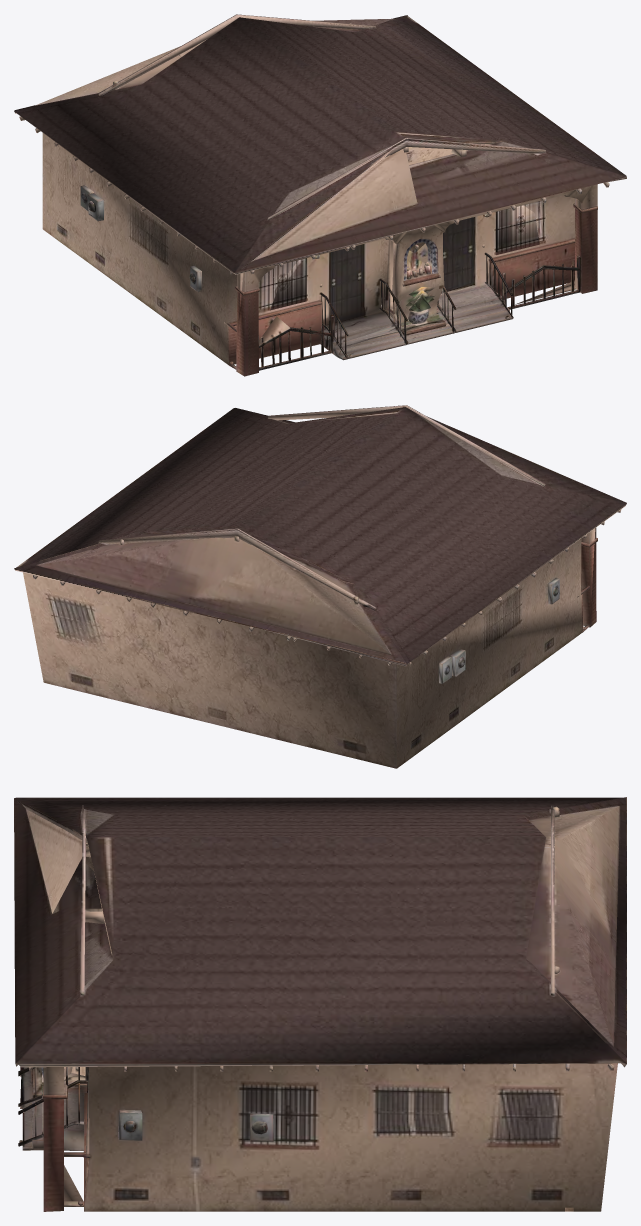
Rendered from bungalow.glb.
The picture shows the model from 3 angles, top to bottom: view 1: azimuth 30°, elevation 25°; view 2: azimuth 150°, elevation 25°; view 3: azimuth 270°, elevation 25°; orthographic projection. The views are drawn at different scales.
Bounding box in the file's own units: 0.9551 × 0.4282 × 0.9263.
Materials: 1 (1 with a texture image).
